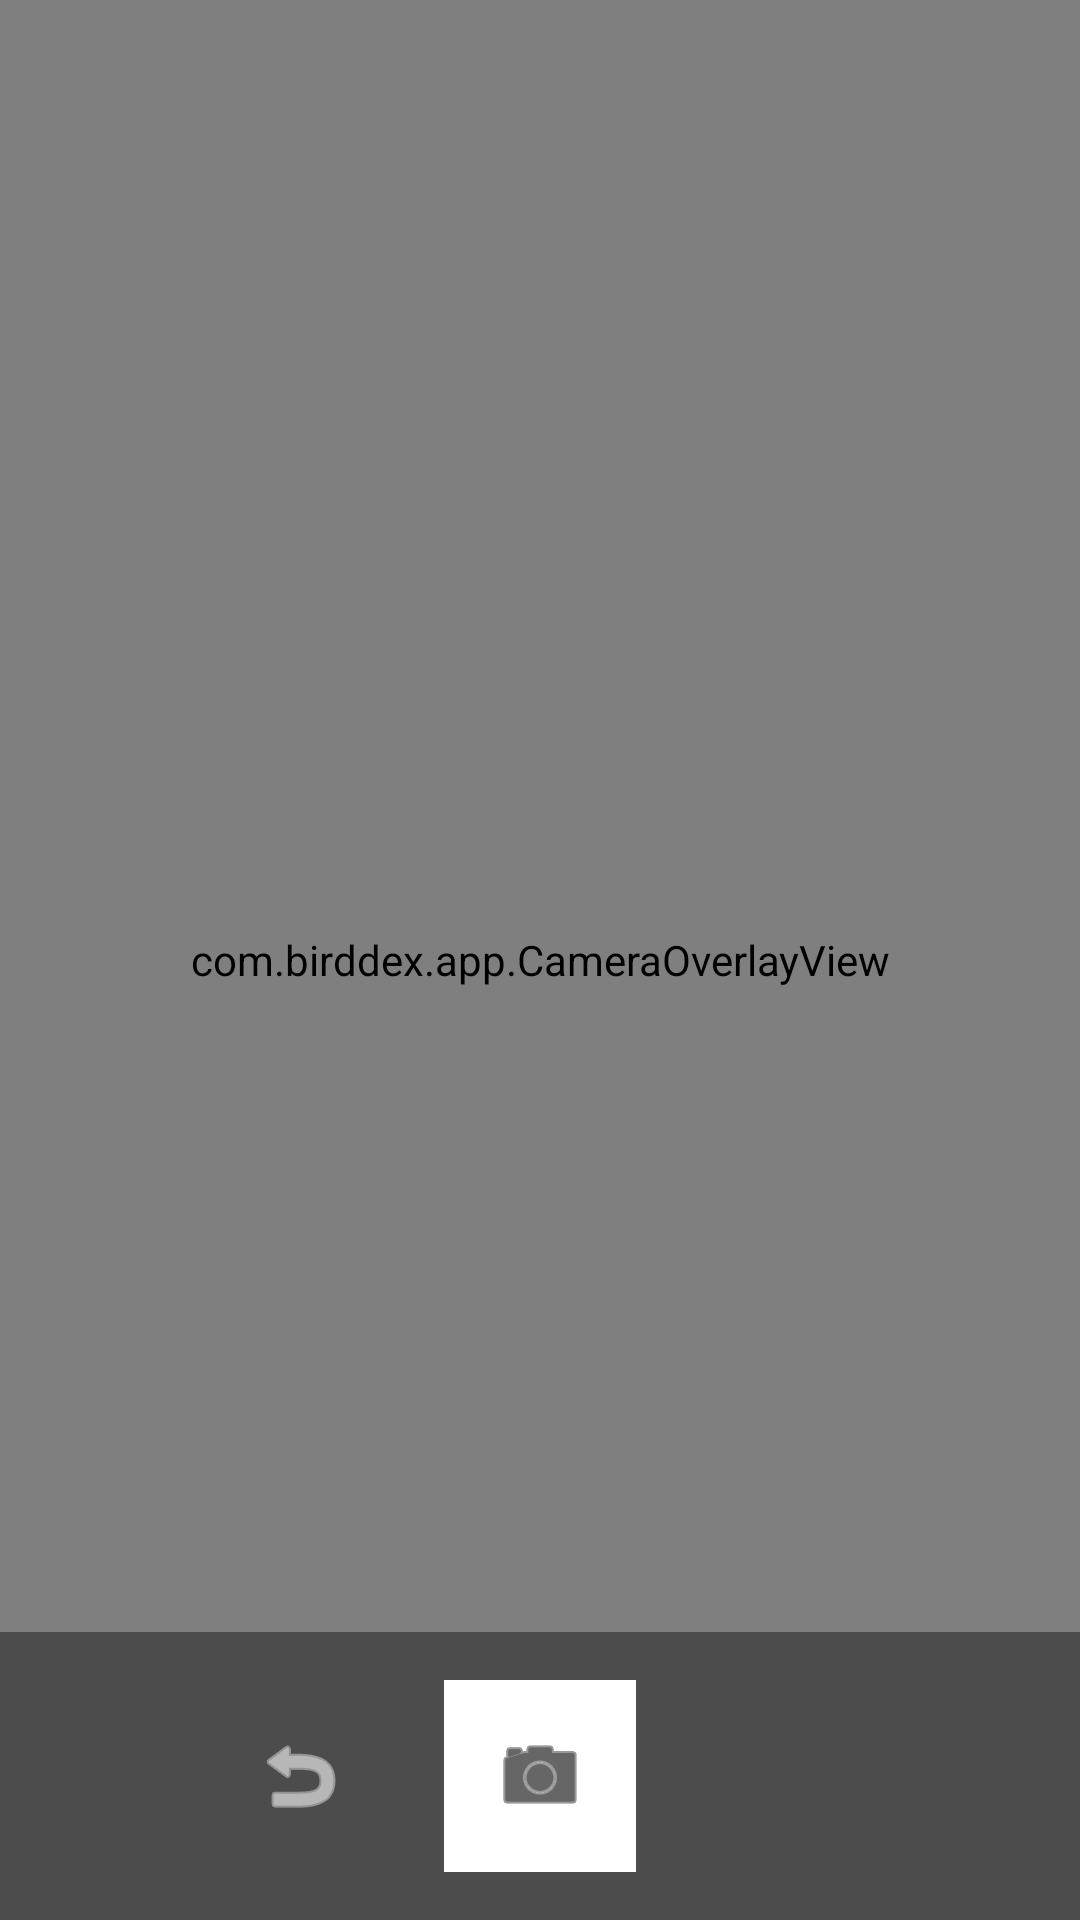

Icons on this 1080x1920 Android screen, each with the point to tap as (x=x, y=y):
Capture: (x=540, y=1776)
